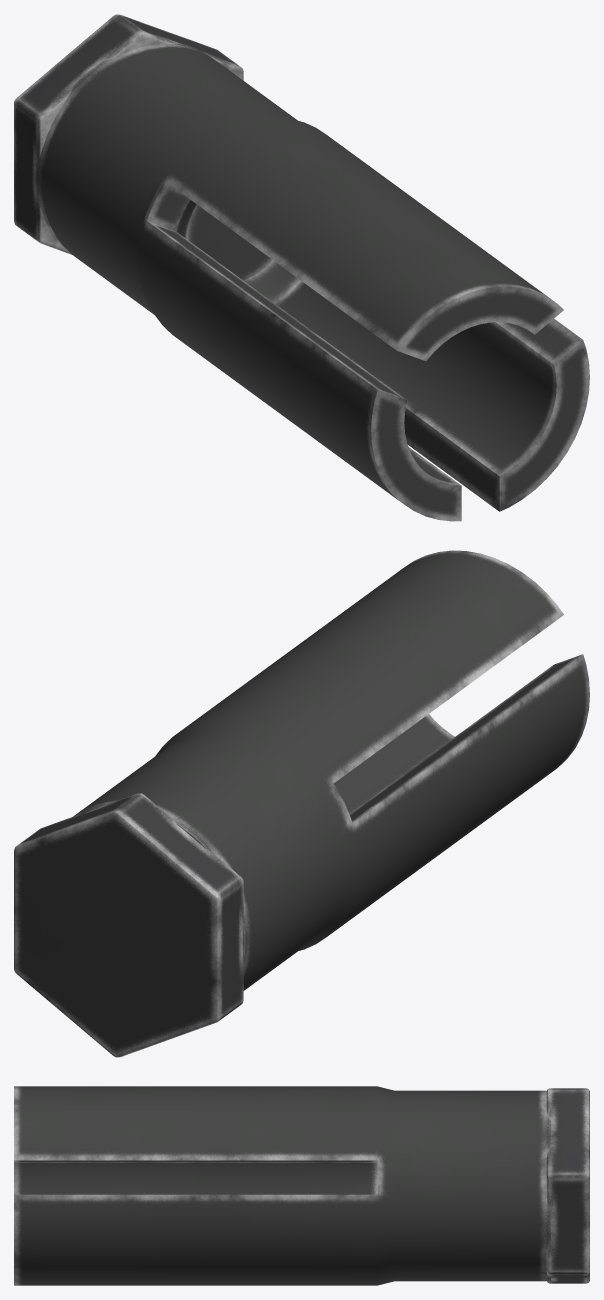
File: flashhider.glb
The picture shows the model from 3 angles, top to bottom: view 1: azimuth 30°, elevation 25°; view 2: azimuth 150°, elevation 25°; view 3: azimuth 270°, elevation 25°; orthographic projection. The views are drawn at different scales.
Visible parts, largest first — view 1: body; view 2: body; view 3: body.
Part boxes in pixels (bbox=[...]): body: bbox=[14, 14, 589, 521]; body: bbox=[14, 550, 589, 1057]; body: bbox=[14, 1086, 589, 1285].
Bounding box in the file's own units: 0.023 × 0.0248 × 0.0665.
Materials: 1 (1 with a texture image).
